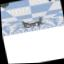drone: (19, 16, 44, 29)
